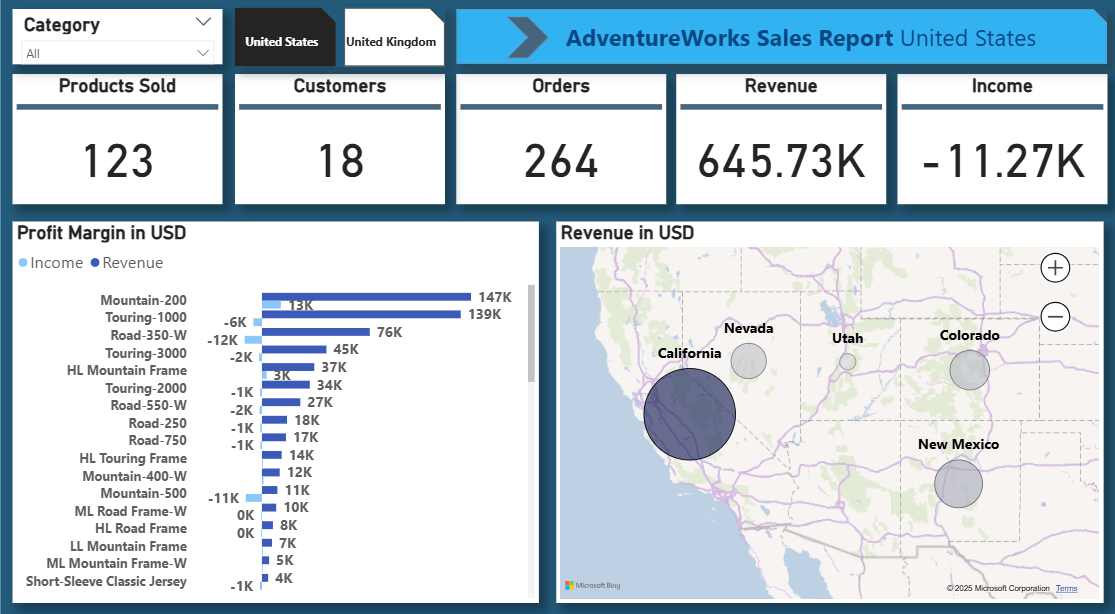

The dashboard page shown, as its layout file describes it:
{"tool":"powerbi","page":{"name":"United States","canvas":[1280,720],"ordinal":0},"visuals":[{"type":"shape","box":[0,0,1280,720],"z":0},{"type":"card","title":"Products Sold","fields":{"Values":["Count(customers.product_id)"]},"box":[14.3,85.7,240,148.6],"z":1000},{"type":"card","title":"Orders","fields":{"Values":["CountNonNull(customers.product_id)"]},"box":[521.4,85.7,240,148.6],"z":2000},{"type":"card","title":"Customers","fields":{"Values":["Count(customers.Customer ID)"]},"box":[268.6,85.7,240,148.6],"z":3000},{"type":"card","title":"Revenue","fields":{"Values":["Sum(orders.Total Price)"]},"box":[772.9,85.7,240,148.6],"z":4000},{"type":"card","title":"Income","fields":{"Values":["Sum(orders.Income)"]},"box":[1025.7,85.7,240,148.6],"z":5000},{"type":"slicer","fields":{"Values":["orders.Category"]},"box":[14.3,11.4,240,62.9],"z":6000},{"type":"shape","box":[521.4,11.4,744.3,62.9],"z":7000},{"type":"shape","box":[579,20,49,48.1],"z":8000},{"type":"textbox","box":[641.8,20,613.6,60],"z":9000},{"type":"clusteredBarChart","title":"Profit Margin in USD","fields":{"Y":["Sum(orders.Income)","Sum(orders.Total Price)"],"Category":["orders.Model"]},"box":[14.3,254.3,601.4,435.7],"z":10000},{"type":"map","title":"Revenue in USD","fields":{"Category":["customers.State"],"Size":["Sum(orders.Total Price)"]},"box":[635.7,254.3,625.7,435.7],"z":11000},{"type":"pageNavigator","box":[268.8,9.6,240,67.1],"z":12000}]}

Visuals, with their boxes in screenshot pixels (x1, y1, x2, y2), scaled from the page's 1280x720 canvas onto the 1115x614 screenshot:
shape: pyautogui.locateOnScreen(0, 0, 1114, 613)
"Products Sold" card: pyautogui.locateOnScreen(12, 73, 222, 200)
"Orders" card: pyautogui.locateOnScreen(454, 73, 663, 200)
"Customers" card: pyautogui.locateOnScreen(234, 73, 443, 200)
"Revenue" card: pyautogui.locateOnScreen(673, 73, 882, 200)
"Income" card: pyautogui.locateOnScreen(893, 73, 1103, 200)
slicer - orders.Category: pyautogui.locateOnScreen(12, 10, 222, 63)
shape: pyautogui.locateOnScreen(454, 10, 1103, 63)
shape: pyautogui.locateOnScreen(504, 17, 547, 58)
textbox: pyautogui.locateOnScreen(559, 17, 1094, 68)
"Profit Margin in USD" clusteredBarChart: pyautogui.locateOnScreen(12, 217, 536, 588)
"Revenue in USD" map: pyautogui.locateOnScreen(554, 217, 1099, 588)
pageNavigator: pyautogui.locateOnScreen(234, 8, 443, 65)
